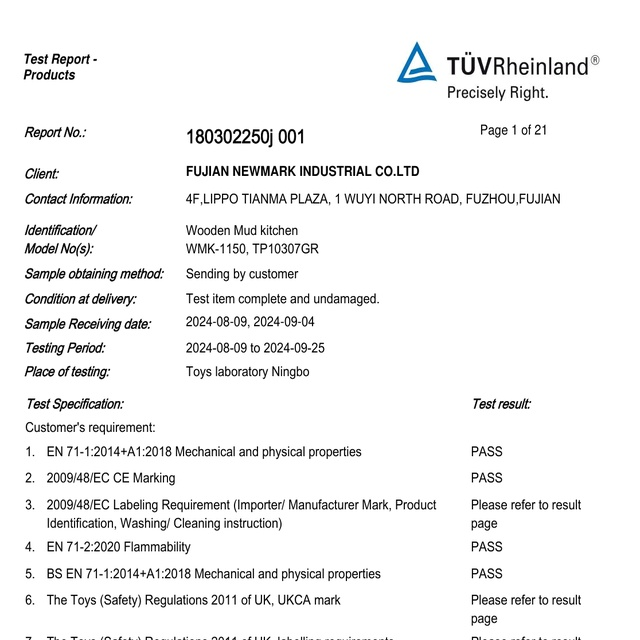tuv_rheinland: (394, 37, 601, 86)
